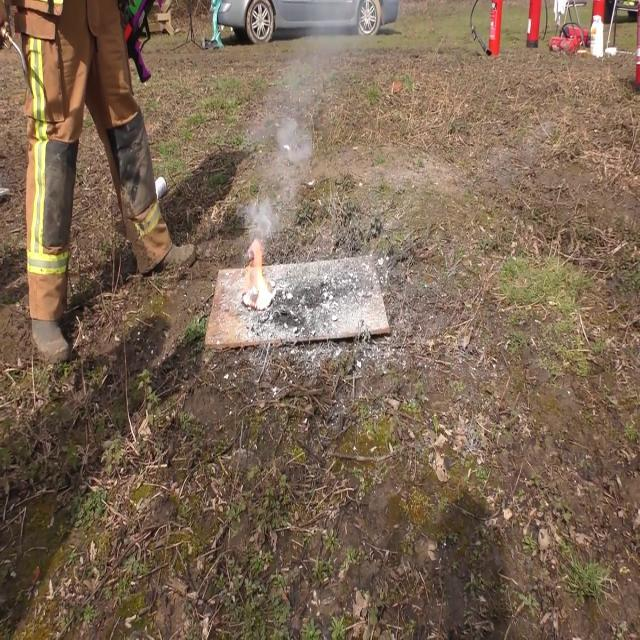Fire: (244, 236, 274, 310)
Smoke: (242, 64, 332, 233)
